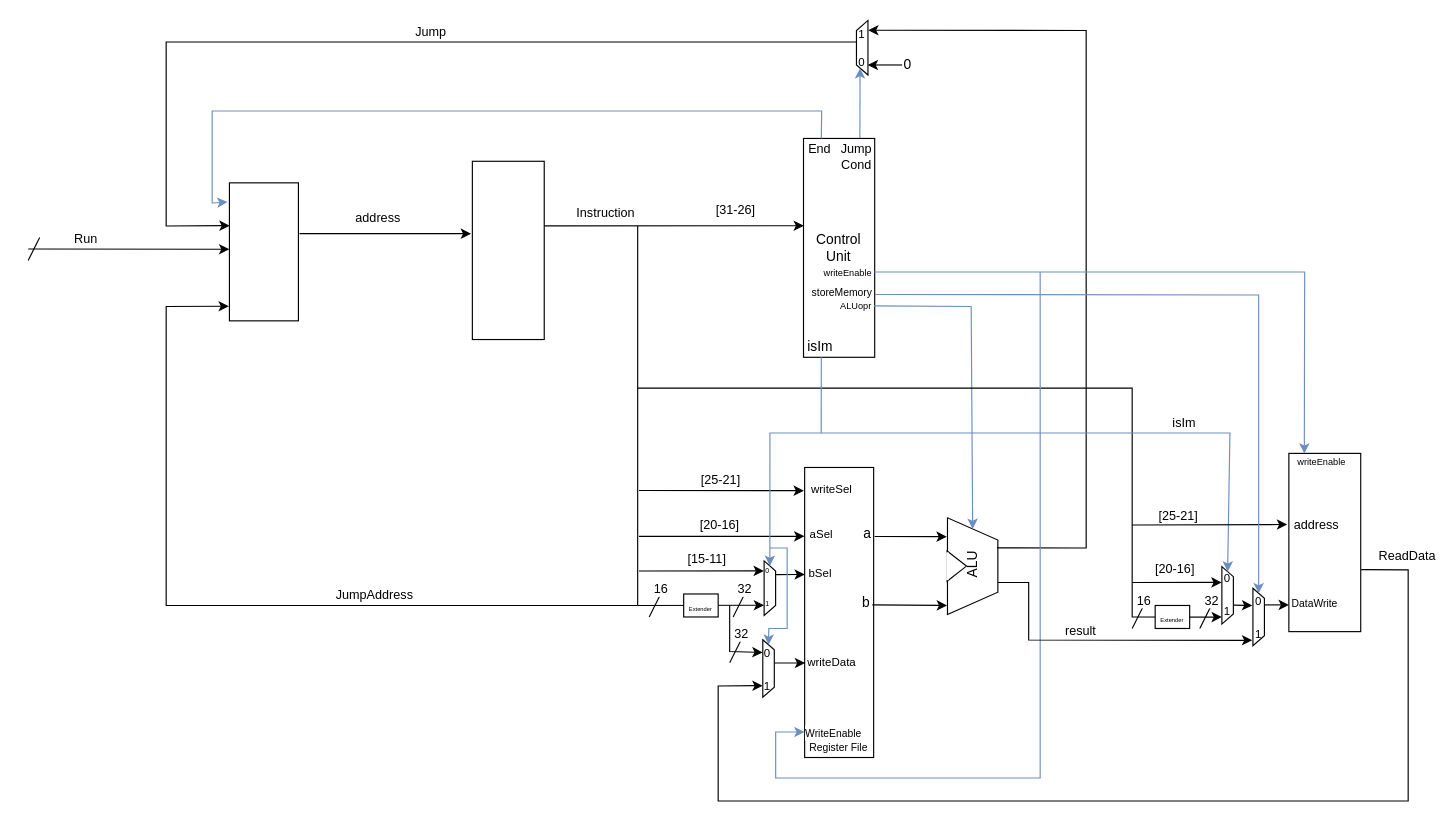
Some shapes in this 1455 by 830 pixel diagram are drawn without their labels. The shapes that lost their labels are listed below. From the top down, each one's centre as x and y in pixels, then its label:
At (x=263, y=251): "PC".
At (x=507, y=250): "Program Memory".
At (x=1324, y=542): "Data Memory".
